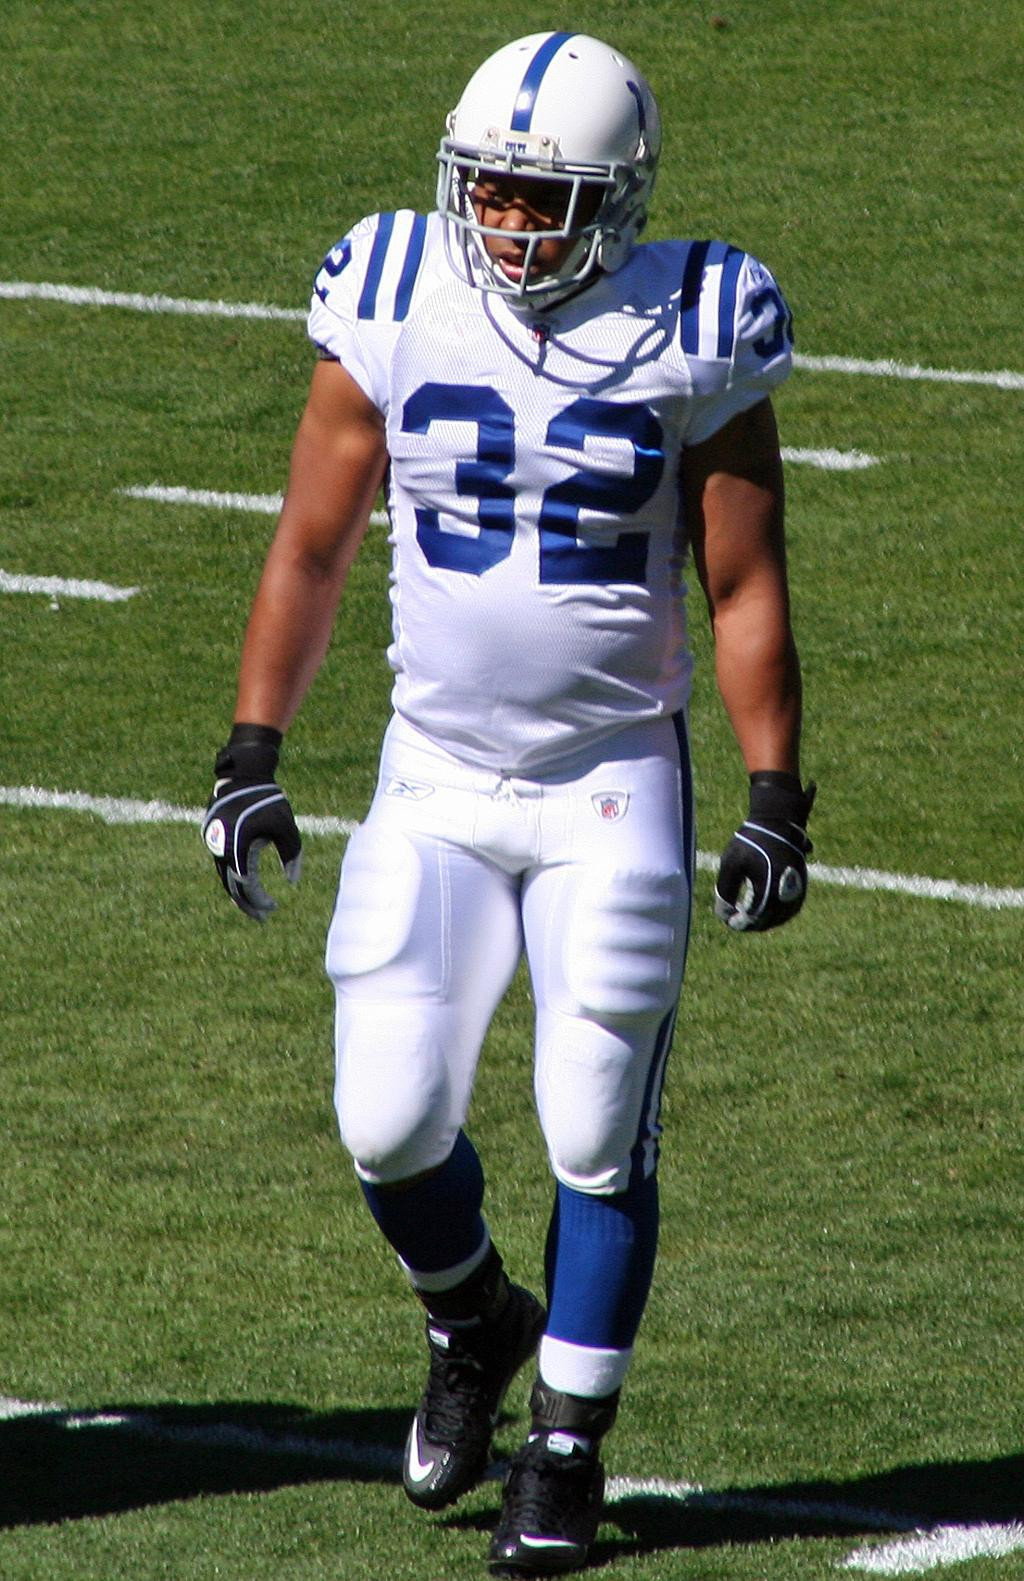face: (467, 143, 597, 294)
